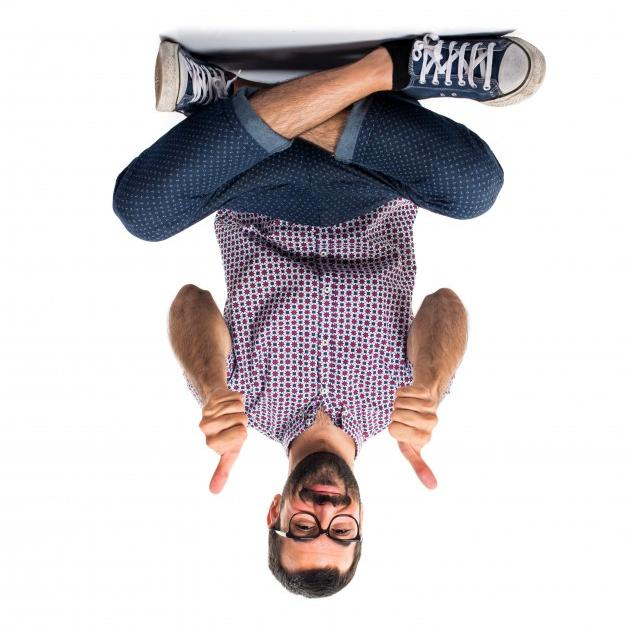thumbsdown: (389, 386, 439, 490), (198, 391, 247, 495)
